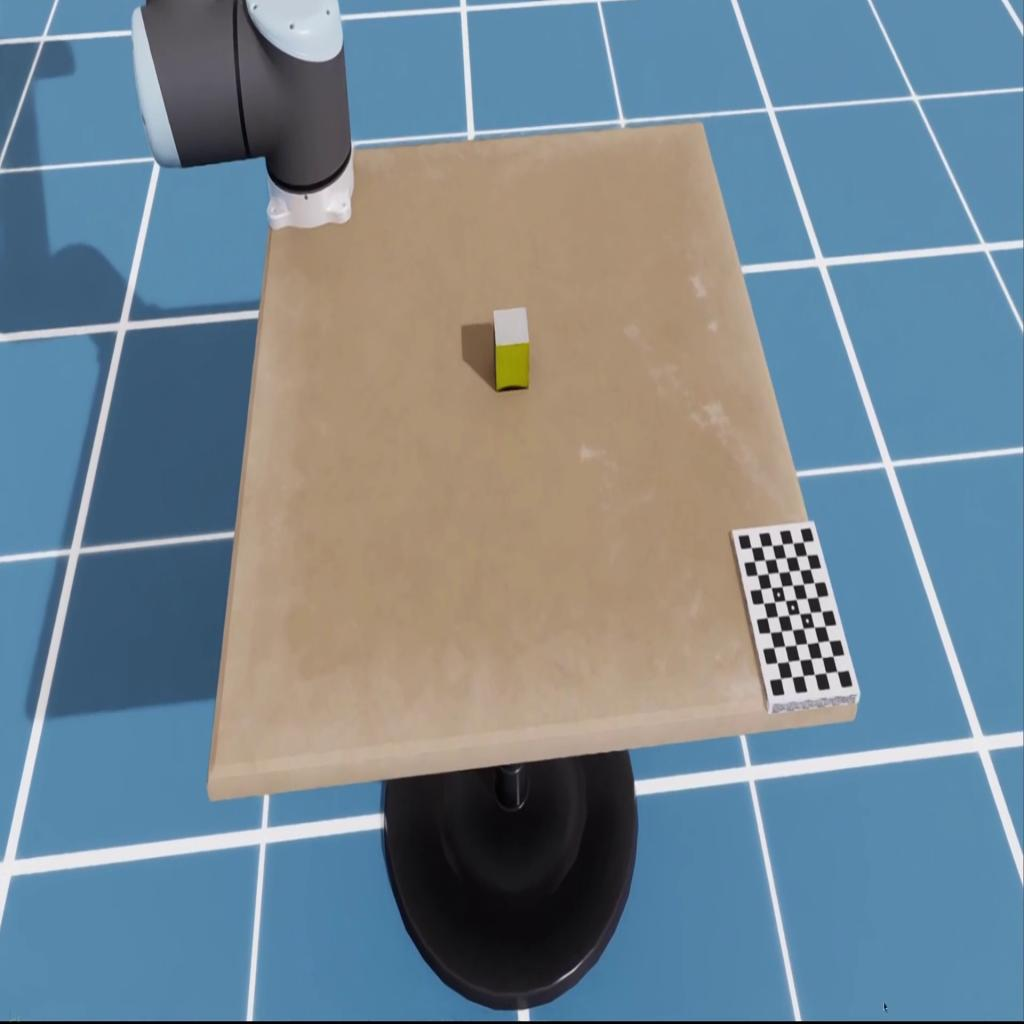Cube: (492, 305, 530, 391)
QR: (729, 518, 860, 718)
Robot: (130, 0, 355, 231)
Table: (207, 126, 856, 804)
